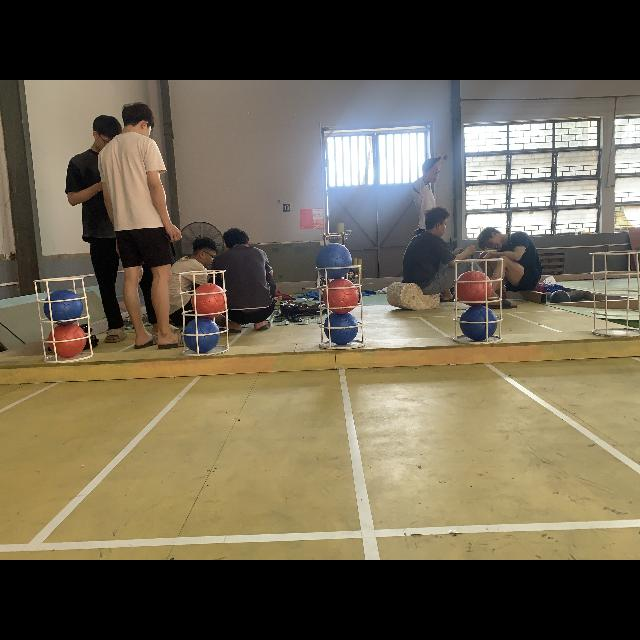B: (184, 318, 222, 356), (43, 290, 83, 326), (459, 304, 496, 342), (316, 242, 352, 278), (325, 312, 357, 346)
R: (456, 270, 492, 306), (322, 280, 360, 314), (48, 324, 86, 358), (192, 284, 228, 318)
